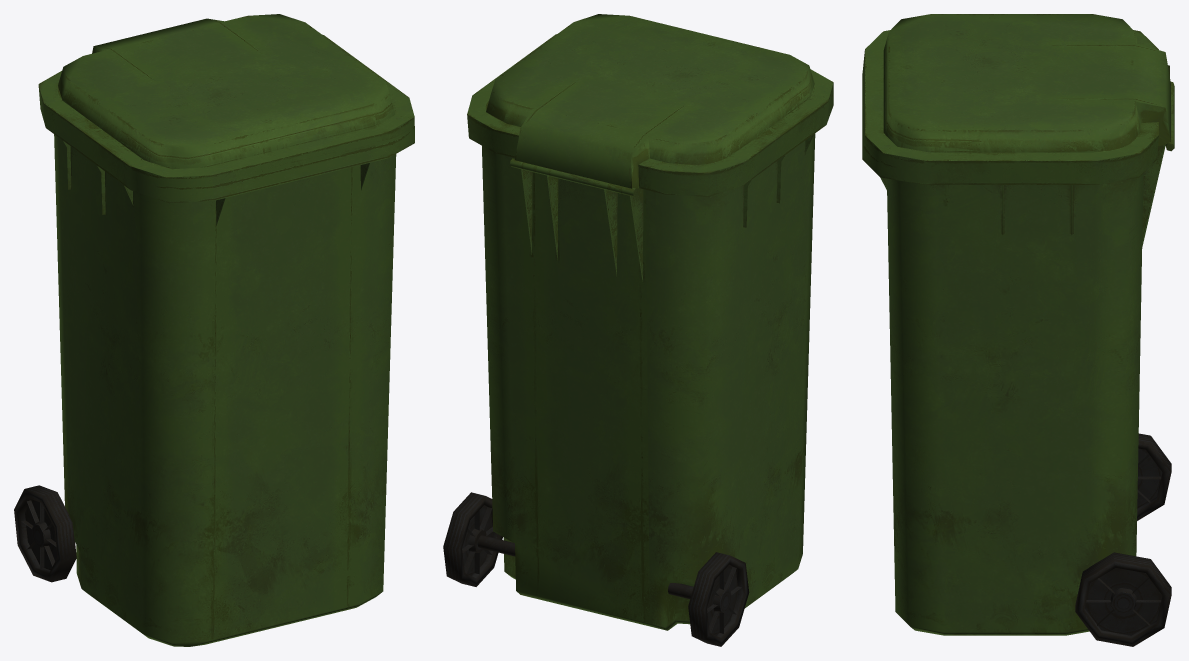
File: Trash_bin1_LOD1.fbx
3 views of the same model, side by side, from view 1: azimuth 30°, elevation 25°; view 2: azimuth 150°, elevation 25°; view 3: azimuth 270°, elevation 25° (orthographic). The views are drawn at different scales.
Parts seen in each view (by area): view 1: polySurface83; view 2: polySurface83; view 3: polySurface83.
Boxes of the visible parts, x1,y1,x2,y2 form: polySurface83: (14,14,414,646); polySurface83: (443,14,833,646); polySurface83: (862,14,1174,646).
Size of the model in its own units: 77 by 133 by 73.94.
